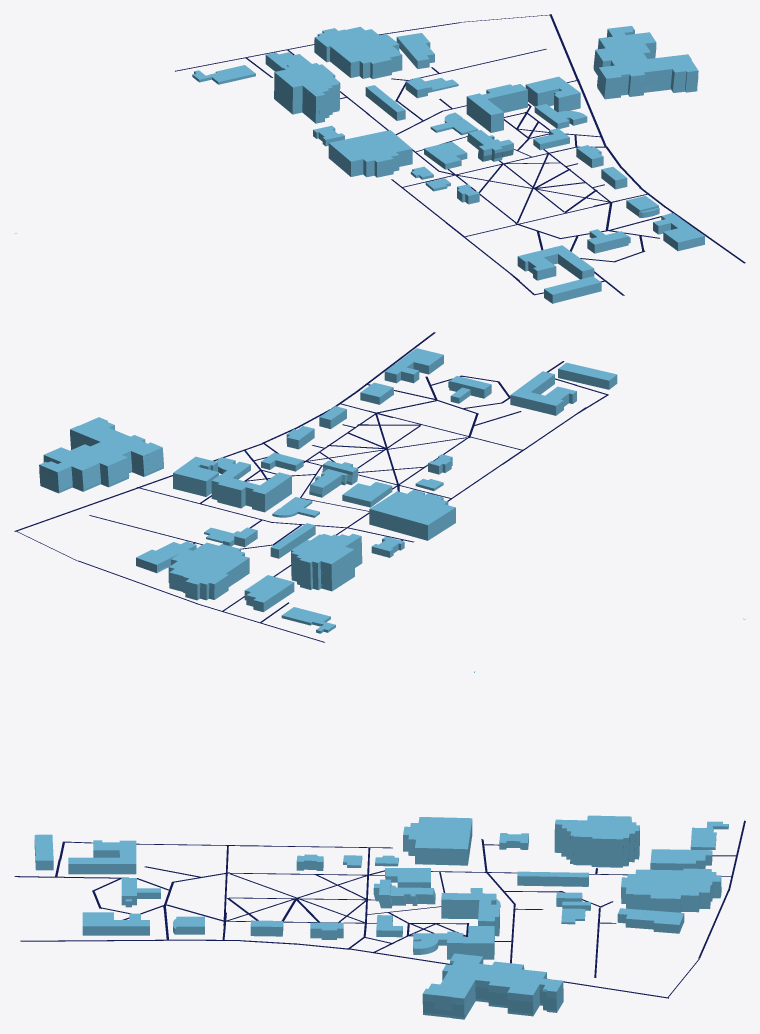
The model's file is myURImodel2-transformed.glb.
The picture shows the model from 3 angles, top to bottom: view 1: azimuth 30°, elevation 25°; view 2: azimuth 150°, elevation 25°; view 3: azimuth 270°, elevation 25°; orthographic projection. The views are drawn at different scales.
Visible parts, largest first — view 1: Bliss, map_7.osm_paths_footway.001; view 2: Bliss, map_7.osm_paths_footway.001; view 3: Bliss, map_7.osm_paths_footway.001.
Part boxes in pixels (x1=…): Bliss: x1=14, y1=26, x2=704, y2=303; map_7.osm_paths_footway.001: x1=175, y1=14, x2=745, y2=295; Bliss: x1=39, y1=348, x2=745, y2=633; map_7.osm_paths_footway.001: x1=14, y1=332, x2=608, y2=642; Bliss: x1=34, y1=671, x2=728, y2=1019; map_7.osm_paths_footway.001: x1=14, y1=820, x2=745, y2=998.
Size of the model in its own units: 2178 by 84.33 by 1932.
